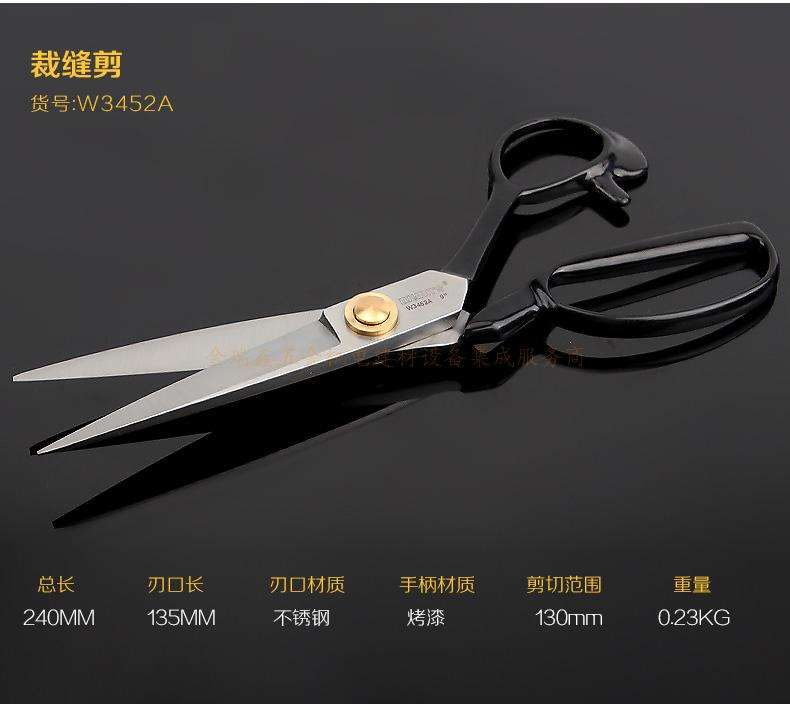scissor: (11, 113, 780, 459)
